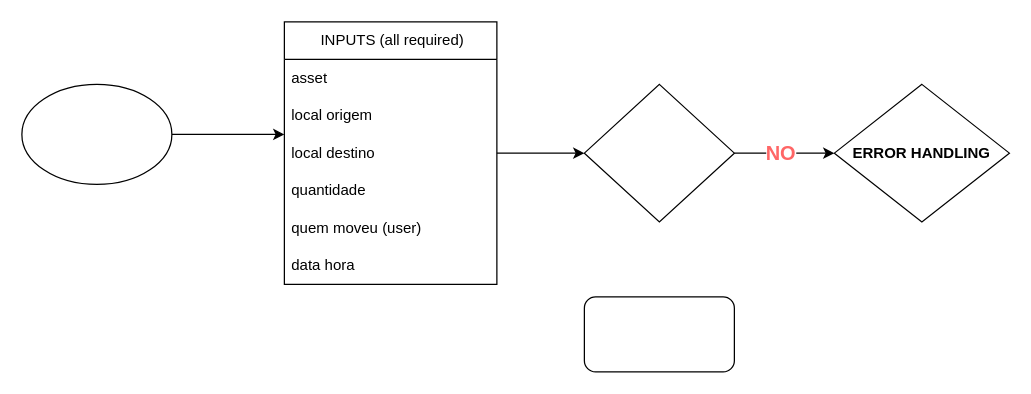
Some shapes in this 1031 by 394 pixel diagram are drawn without their labels. The shapes that lost their labels are listed below. From the top down, each one's centre as x and y in pixels, then its label:
point 96,133: start
point 658,152: VALIDATE
